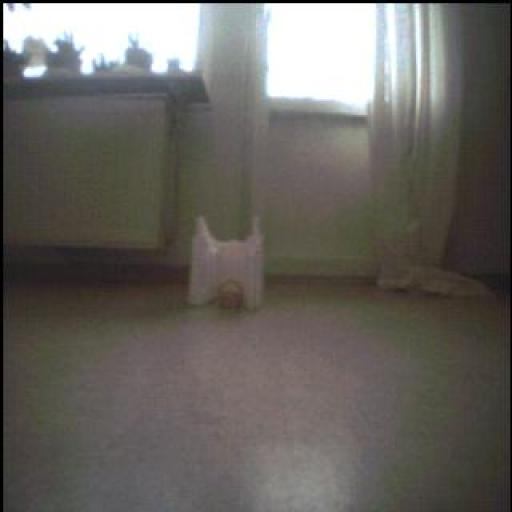Basket: (215, 280, 245, 310)
